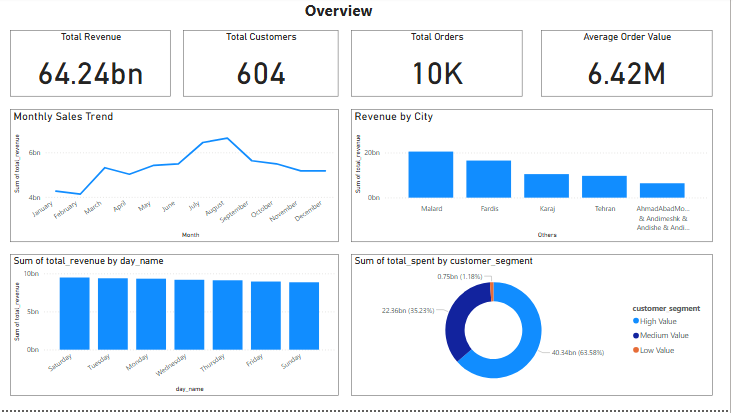

This screenshot's page, from the dashboard's own definition file:
{"tool":"powerbi","page":{"name":"Page 1","canvas":[1280,720],"ordinal":0},"visuals":[{"type":"textbox","box":[304.8,0,585.1,57.9],"z":0},{"type":"card","title":"Total Revenue","fields":{"Values":["Sum(public sales_summary.total_revenue)"]},"box":[24.4,57.9,280.4,115.8],"z":1000},{"type":"card","title":"Total Customers","fields":{"Values":["public city_analysis.total customers"]},"box":[326.1,57.9,271.2,115.8],"z":2000},{"type":"card","title":"Total Orders","fields":{"Values":["Sum(public sales_summary.total_invoices)"]},"box":[618.7,57.9,298.7,115.8],"z":3000},{"type":"card","title":"Average Order Value","fields":{"Values":["public city_analysis.AOV"]},"box":[950.9,57.9,298.7,115.8],"z":4000},{"type":"lineChart","title":"Monthly Sales Trend","fields":{"Y":["Sum(public sales_summary.total_revenue)"],"Category":["public sales_summary.month.Variation.Date Hierarchy.Month"]},"box":[24.4,195,573,231.6],"z":5000},{"type":"clusteredColumnChart","title":"Revenue by City","fields":{"Y":["Sum(public city_analysis.total_revenue)"],"Category":["public city_analysis.Others"]},"box":[618.7,195,630.9,231.6],"z":6000},{"type":"donutChart","fields":{"Category":["public customer_segments.customer_segment"],"Y":["Sum(public customer_segments.total_spent)"]},"box":[618.7,448,630.9,246.9],"z":7000},{"type":"columnChart","fields":{"Category":["public weekday_analysis.day_name"],"Y":["Sum(public weekday_analysis.total_revenue)"]},"box":[24.4,448,573,246.9],"z":8000}]}

Visuals, with their boxes in screenshot pixels (x1, y1, x2, y2), scaled from the page's 1280x720 canvas onto the 733x413 screenshot:
textbox: [x1=175, y1=0, x2=510, y2=33]
"Total Revenue" card: [x1=14, y1=33, x2=175, y2=100]
"Total Customers" card: [x1=187, y1=33, x2=342, y2=100]
"Total Orders" card: [x1=354, y1=33, x2=525, y2=100]
"Average Order Value" card: [x1=545, y1=33, x2=716, y2=100]
"Monthly Sales Trend" lineChart: [x1=14, y1=112, x2=342, y2=245]
"Revenue by City" clusteredColumnChart: [x1=354, y1=112, x2=716, y2=245]
donutChart - public customer_segments.customer_segment x Sum(public customer_segments.total_spent): [x1=354, y1=257, x2=716, y2=399]
columnChart - public weekday_analysis.day_name x Sum(public weekday_analysis.total_revenue): [x1=14, y1=257, x2=342, y2=399]
